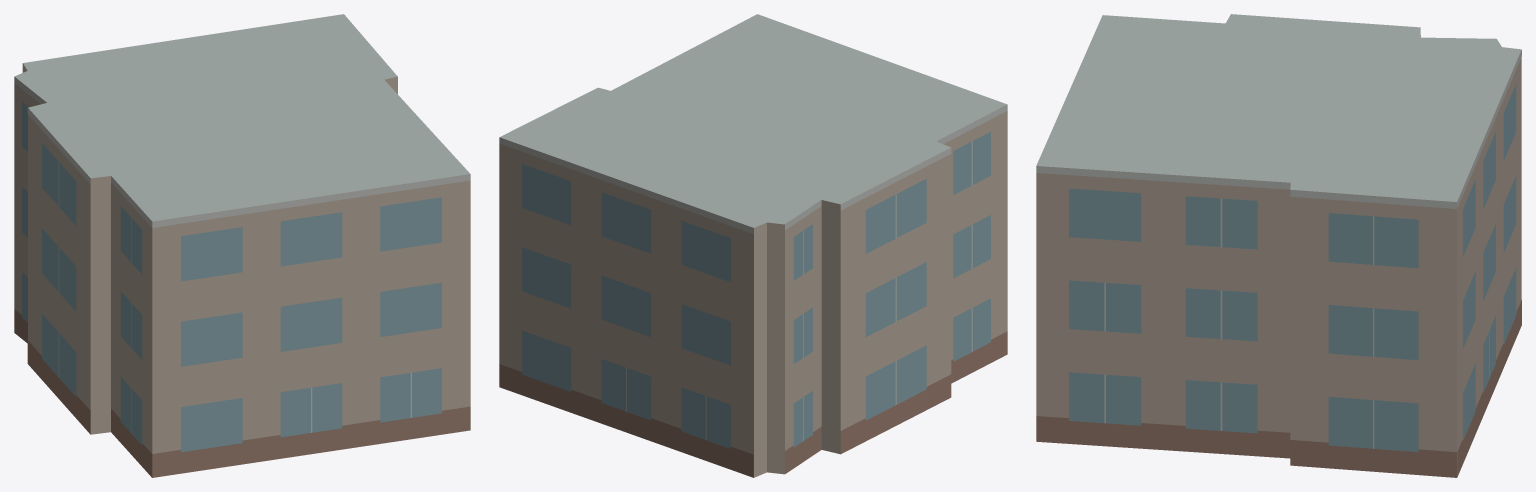
Rendered from survey-upis-32967285.glb.
The picture shows the model from 3 angles, left to right: view 1: azimuth 30°, elevation 25°; view 2: azimuth 150°, elevation 25°; view 3: azimuth 270°, elevation 25°; orthographic projection. The views are drawn at different scales.
Visible parts, largest first — view 1: survey-upis-32967285.tmp; view 2: survey-upis-32967285.tmp; view 3: survey-upis-32967285.tmp.
Boxes of the visible parts, x1,y1,x2,y2 form: survey-upis-32967285.tmp: (14, 14, 470, 477); survey-upis-32967285.tmp: (499, 14, 1007, 477); survey-upis-32967285.tmp: (1036, 14, 1521, 477).
Bounding box in the file's own units: 14.2 × 9.7 × 15.49.
